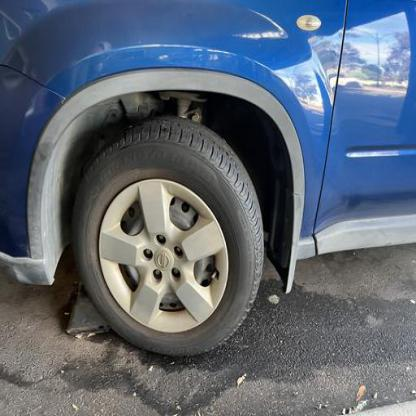Tire: (69, 115, 265, 356)
